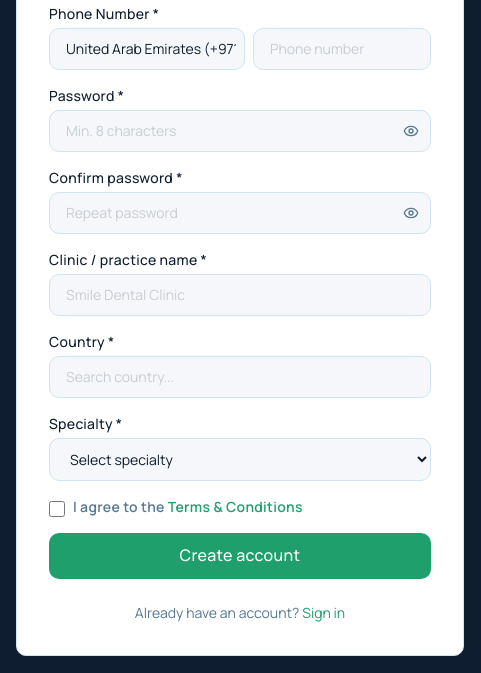
Test: Register page › filters country list when typing
(page scrolled)
In the field with placeholder "Search country...": (240, 377) [49,356,431,398], type "Egypt"
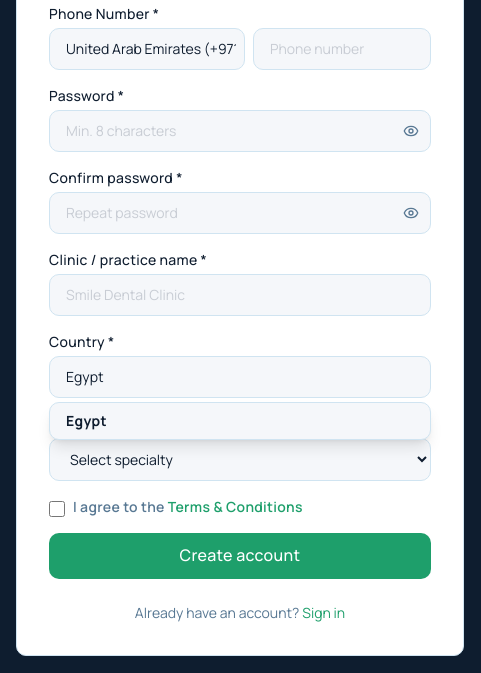
Expected: the button "Egypt" is shown, [50,403,430,439]
Expected: the button "Afghanistan" is gone
